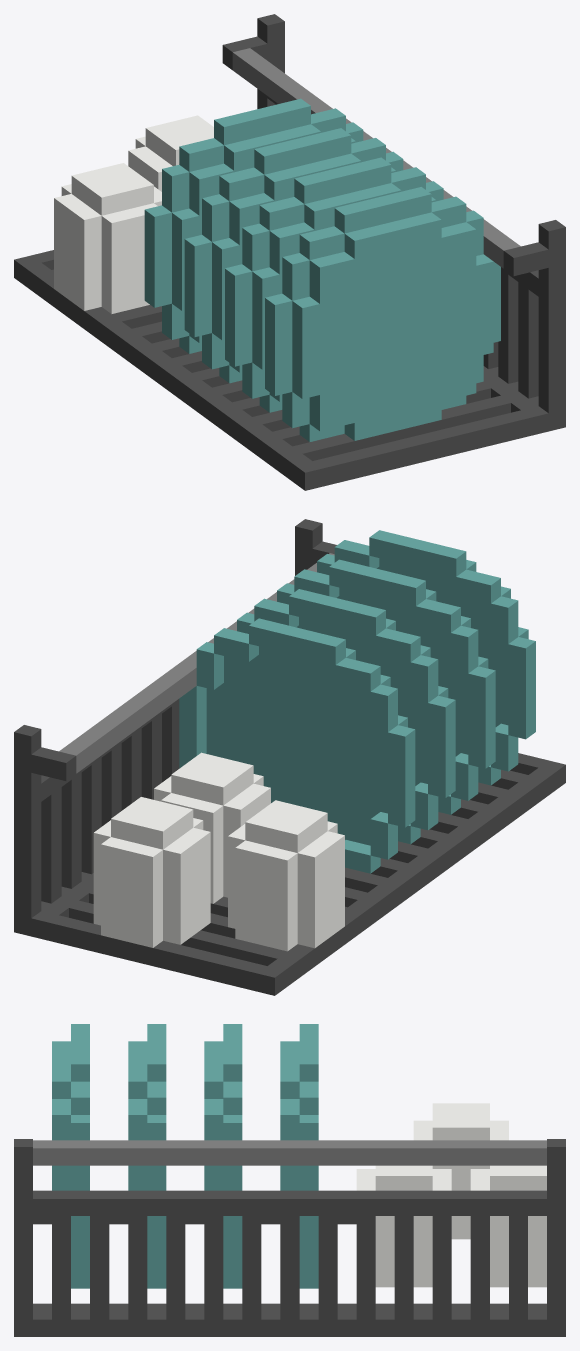
Rendered from Put_Dish.fbx.
3 views of the same model, one above another, from view 1: azimuth 30°, elevation 25°; view 2: azimuth 150°, elevation 25°; view 3: azimuth 270°, elevation 25° (orthographic). The views are drawn at different scales.
Visible parts, largest first — view 1: Put_Dish:Put_Dish; view 2: Put_Dish:Put_Dish; view 3: Put_Dish:Put_Dish.
Boxes of the visible parts, bbox=[...] form: Put_Dish:Put_Dish: bbox=[14, 14, 565, 490]; Put_Dish:Put_Dish: bbox=[14, 519, 565, 995]; Put_Dish:Put_Dish: bbox=[14, 1024, 565, 1336].
Bounding box in the file's own units: 15 × 13 × 29.
